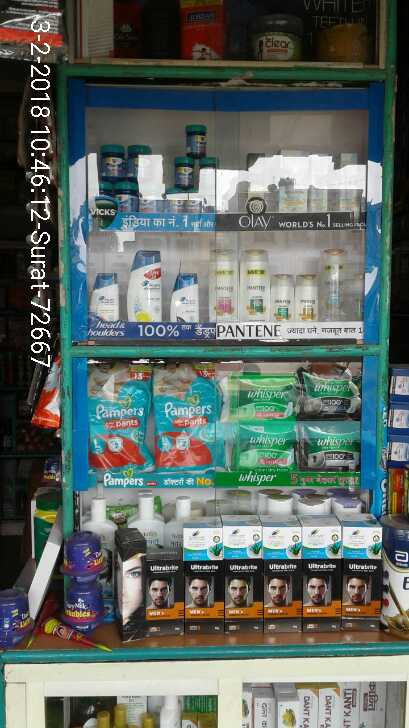beauty: (124, 249, 165, 319), (237, 250, 272, 323), (211, 247, 235, 327), (169, 268, 201, 327), (89, 271, 123, 319)
pharmacy: (81, 117, 228, 212), (150, 364, 224, 467), (88, 356, 153, 473), (300, 417, 358, 477), (233, 374, 296, 422), (238, 425, 299, 472), (301, 374, 352, 420)
